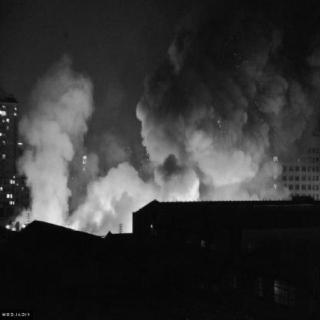Fire: (6, 212, 28, 240)
